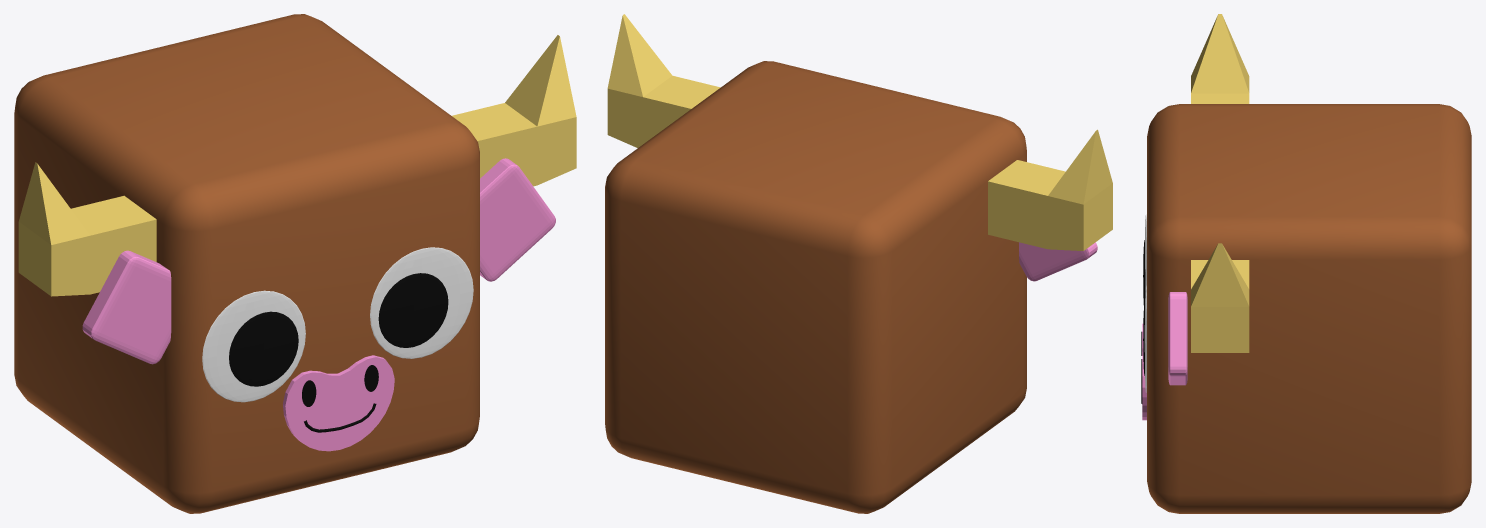
The model's file is Bull.fbx.
3 renders of one model, left to right at view 1: azimuth 30°, elevation 25°; view 2: azimuth 150°, elevation 25°; view 3: azimuth 270°, elevation 25°, orthographic. The views are drawn at different scales.
Visible parts, largest first — view 1: Bull; view 2: Bull; view 3: Bull.
Boxes of the visible parts, box(x1,y1,x2,y2) form: Bull: box(14, 14, 576, 513); Bull: box(605, 14, 1112, 513); Bull: box(1141, 14, 1471, 513).
Size of the model in its own units: 336 by 223 by 204.
